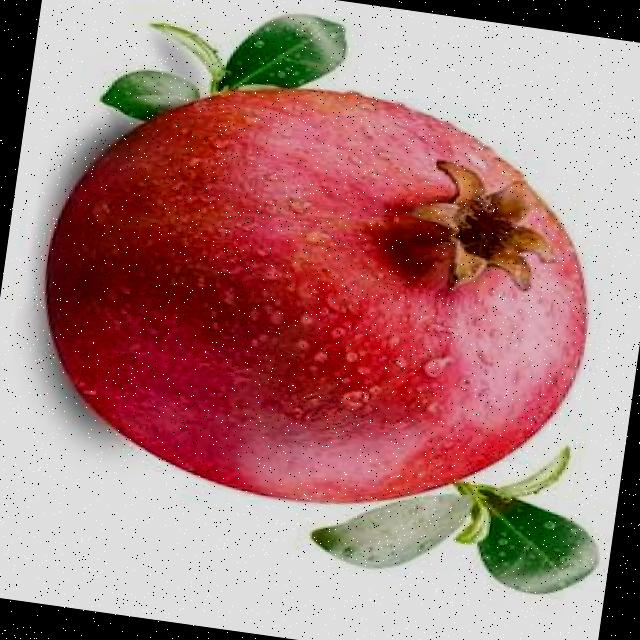Pomegranate: (16, 49, 622, 542)
